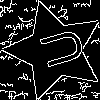U: (30, 25, 87, 73)
